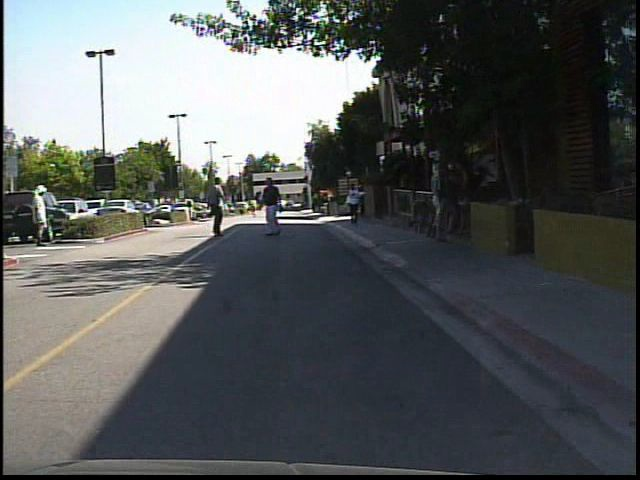person: (425, 151, 460, 248), (453, 161, 479, 246), (203, 173, 234, 242), (258, 178, 291, 240), (29, 181, 56, 249), (346, 181, 366, 226), (249, 194, 266, 219), (189, 197, 190, 222)
